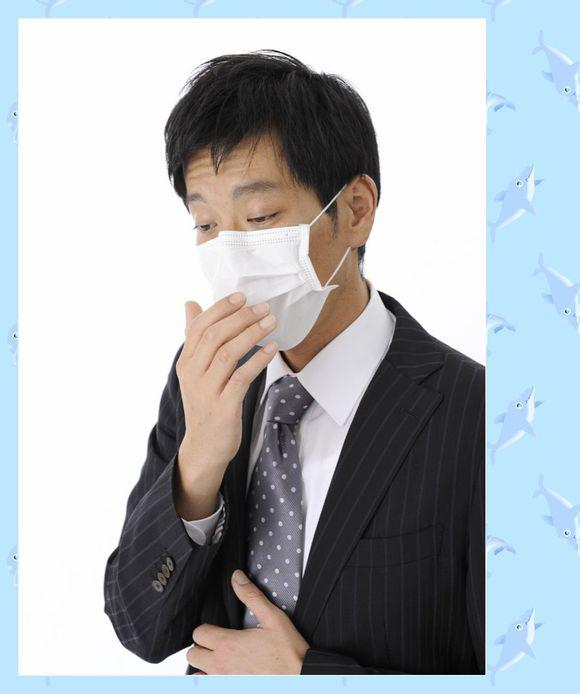OK: (179, 183, 341, 345)
